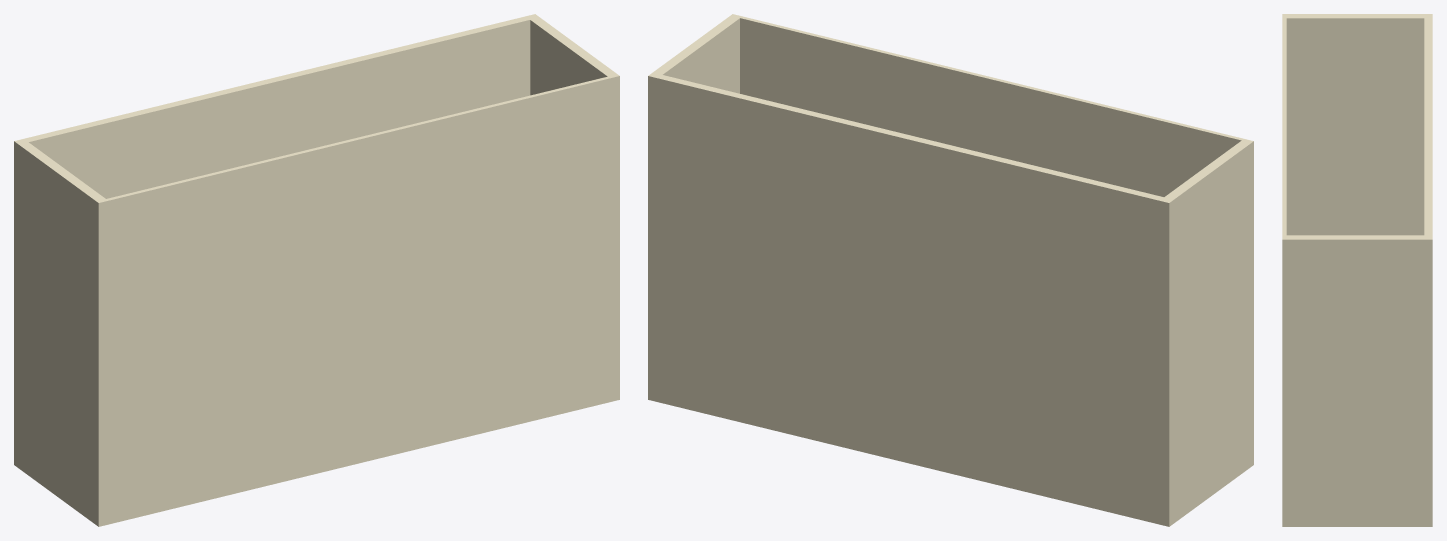
The model's file is outer_shell.glb.
3 renders of one model, left to right at view 1: azimuth 30°, elevation 25°; view 2: azimuth 150°, elevation 25°; view 3: azimuth 270°, elevation 25°, orthographic. The views are drawn at different scales.
Visible parts, largest first — view 1: world; view 2: world; view 3: world.
Boxes of the visible parts, box(x1,y1,x2,y2) form: world: box(14, 14, 619, 526); world: box(648, 14, 1253, 526); world: box(1282, 14, 1432, 526).
Size of the model in its own units: 0.32 by 0.19 by 0.09.
